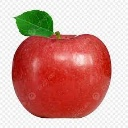apple: (11, 31, 113, 119)
